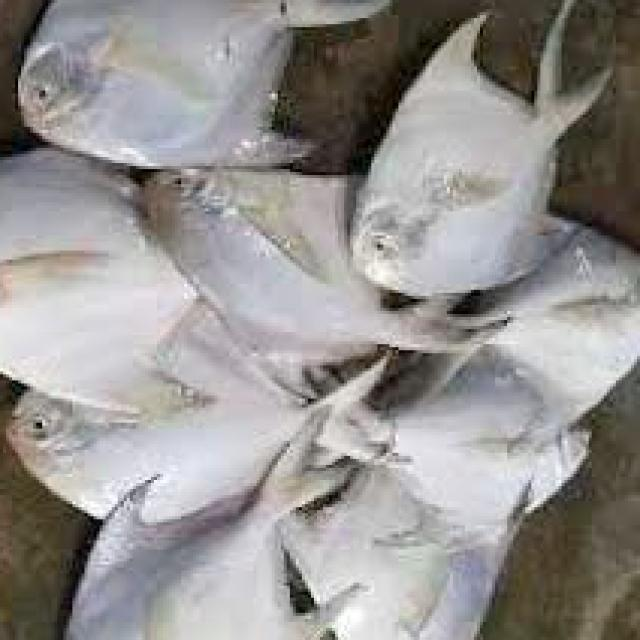pomfred: (347, 0, 620, 294)
